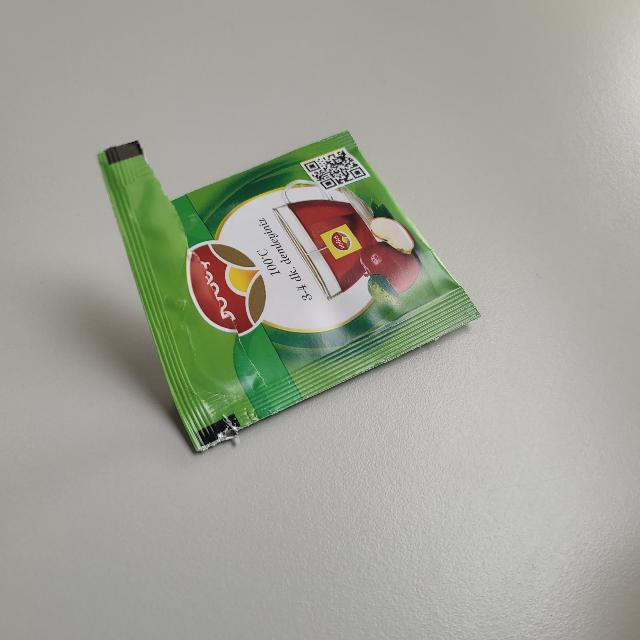Plastik: (99, 128, 476, 457)
